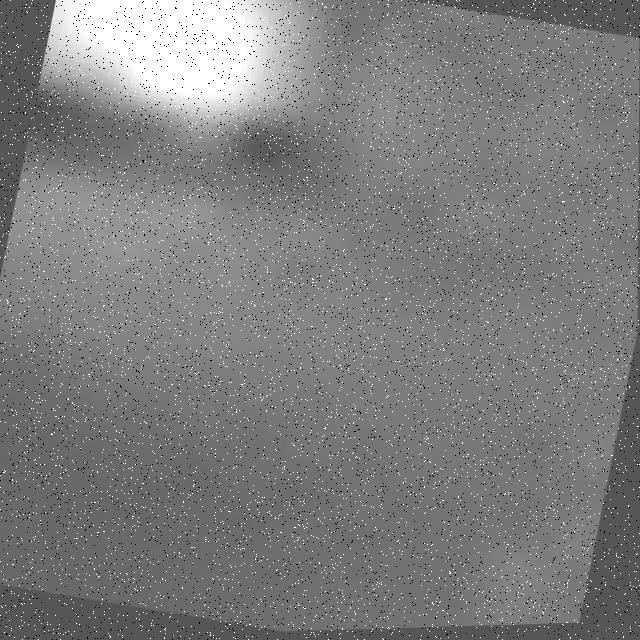person: (37, 1, 376, 158)
